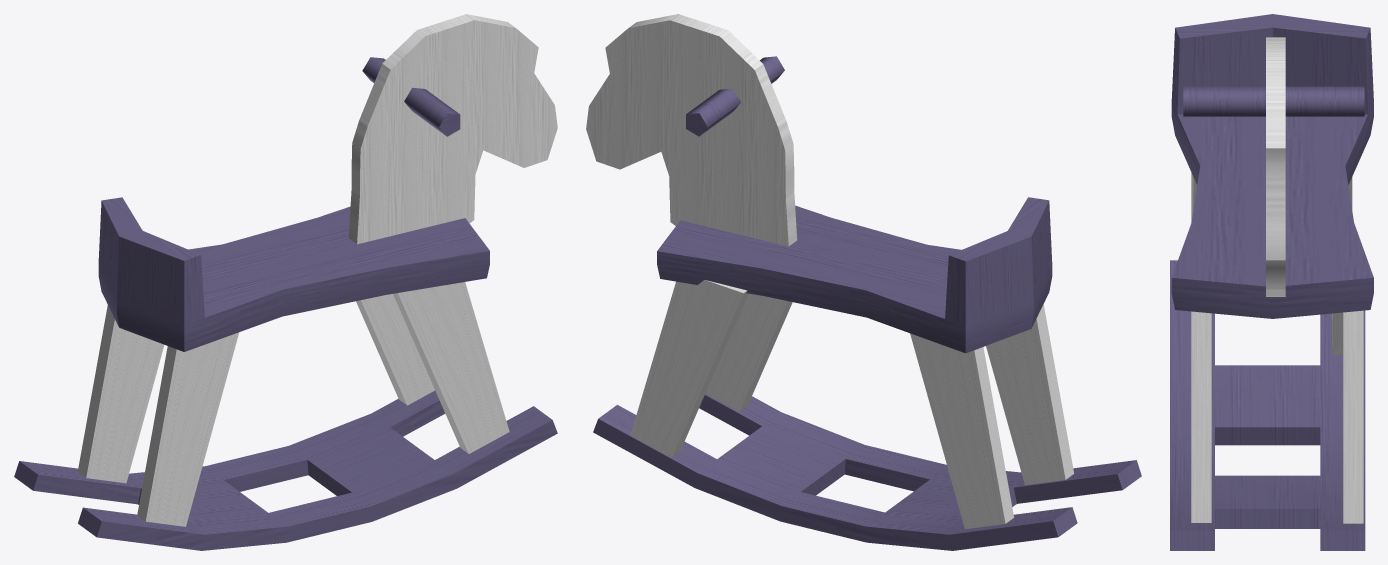
File: Rocking_Horse_C.FBX
The picture shows the model from 3 angles, left to right: view 1: azimuth 30°, elevation 25°; view 2: azimuth 150°, elevation 25°; view 3: azimuth 270°, elevation 25°; orthographic projection. The views are drawn at different scales.
Parts seen in each view (by area): view 1: Rocking_Horse; view 2: Rocking_Horse; view 3: Rocking_Horse.
Part boxes in pixels (box(x1,y1,x2,y2)): Rocking_Horse: box(14, 14, 557, 550); Rocking_Horse: box(586, 14, 1141, 550); Rocking_Horse: box(1170, 14, 1373, 550).
Size of the model in its own units: 170 by 141 by 50.58.
